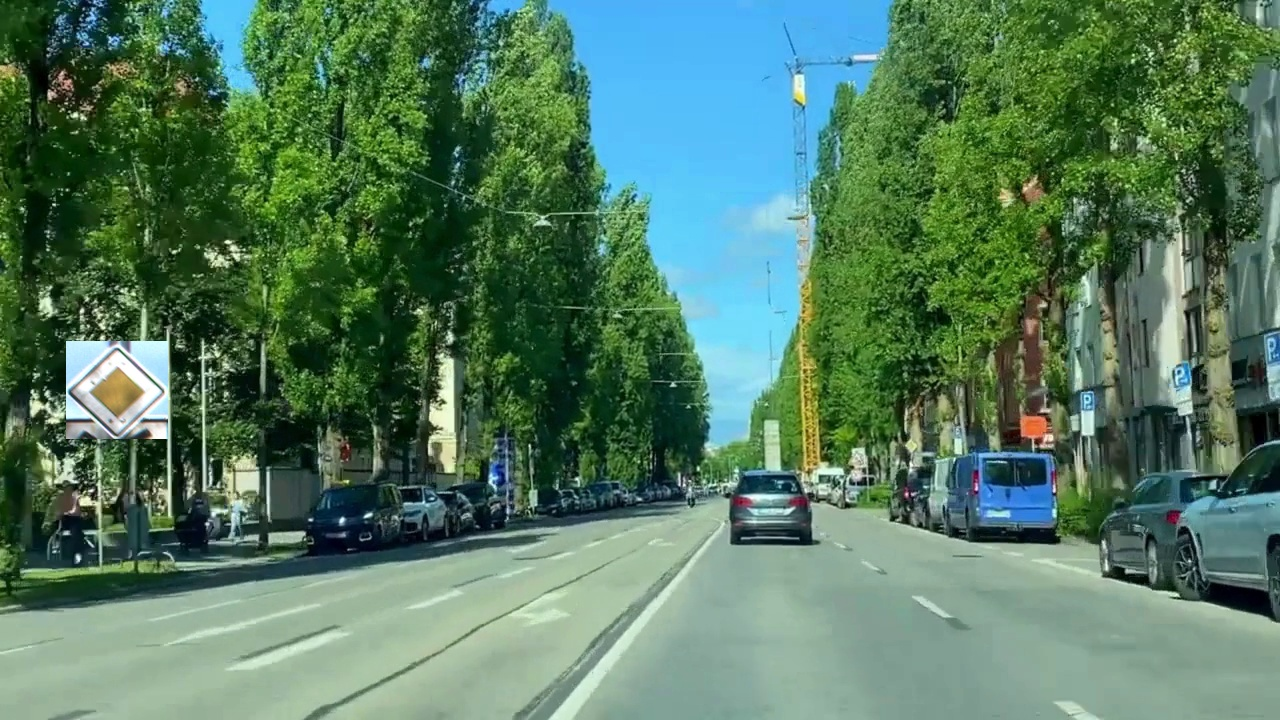Priority road: (66, 341, 168, 439)
